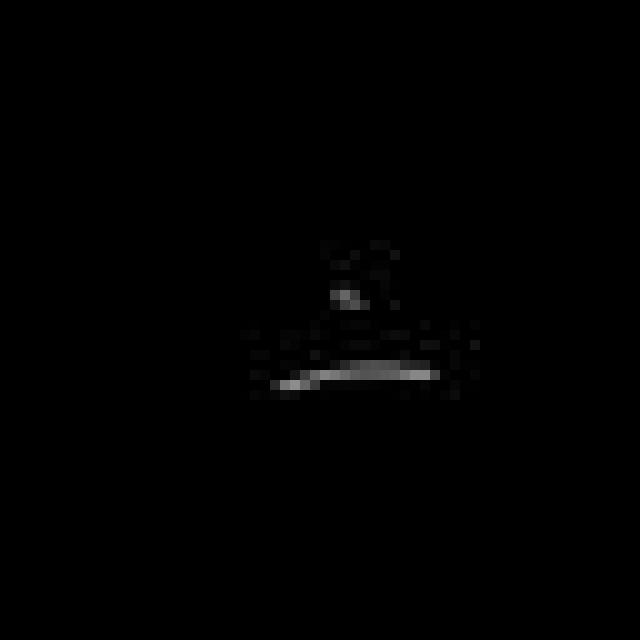2 -two-: (271, 270, 444, 422)
